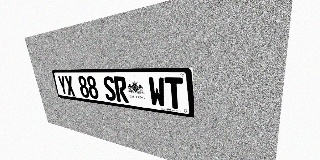8: (86, 76, 99, 99), (77, 76, 90, 98)
R: (113, 76, 129, 103)
S: (102, 76, 117, 101)
T: (164, 77, 184, 110)
W: (148, 77, 166, 108)
X: (64, 75, 76, 96)
Y: (57, 75, 68, 95)
